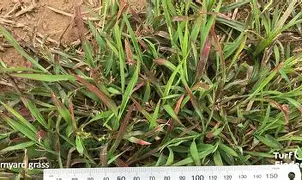weed: (0, 0, 301, 167)
